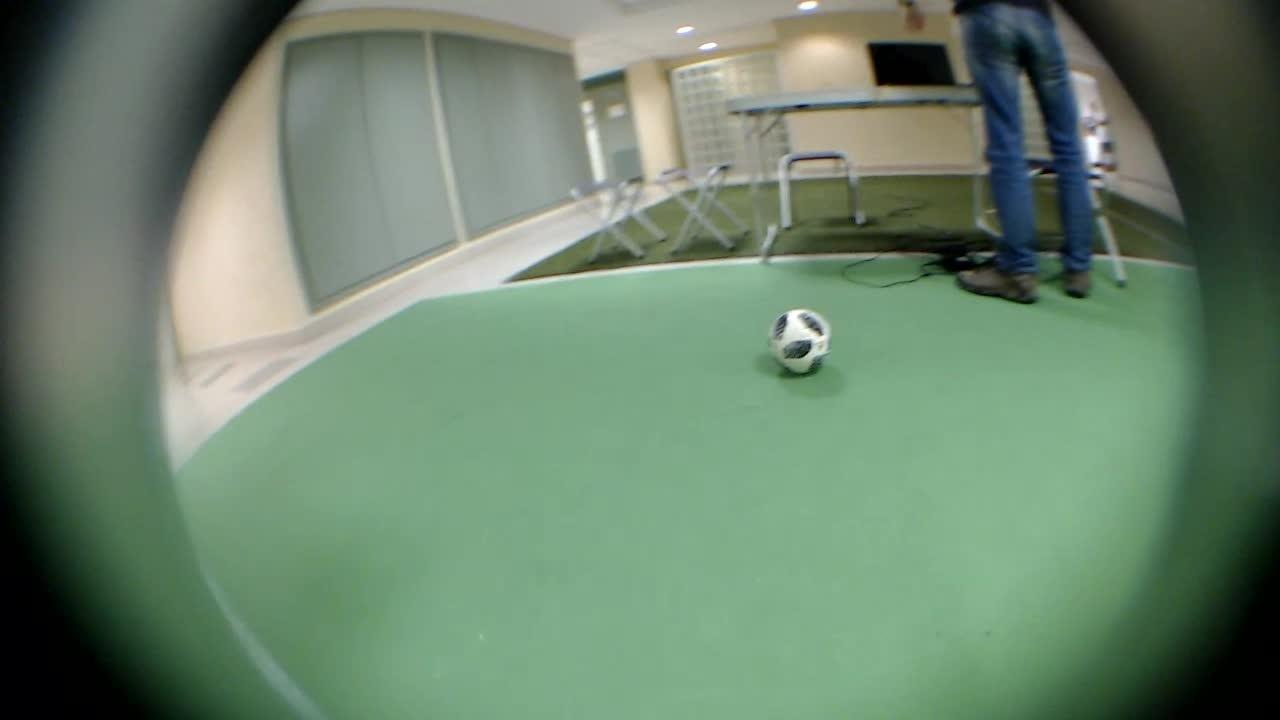ball: (757, 291, 847, 384)
